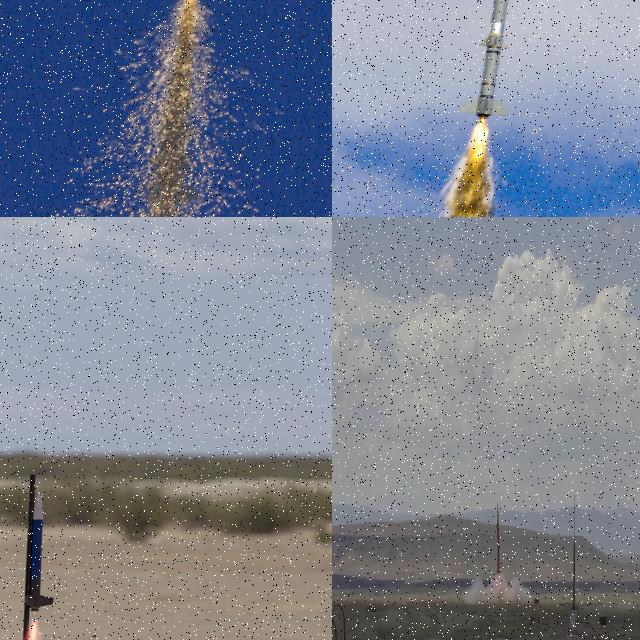Rocket: (457, 0, 514, 119), (25, 489, 55, 612), (496, 501, 502, 577), (572, 539, 577, 603)
